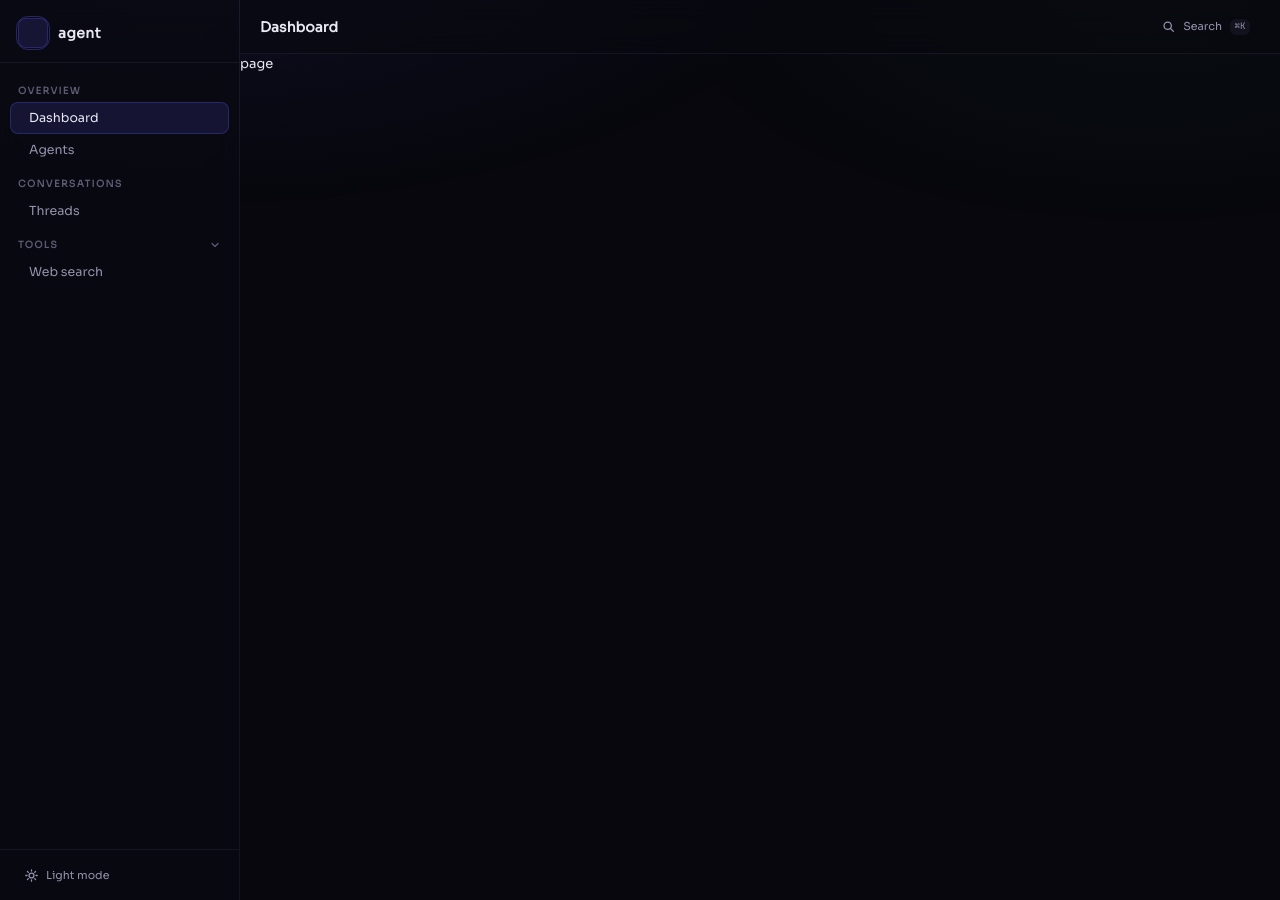
it: ⌘K navigation in AppShell › "threads" finds the Threads page and Enter navigates like a click on the nav item
The width and height of the screenshot is (1280, 900).
Press k
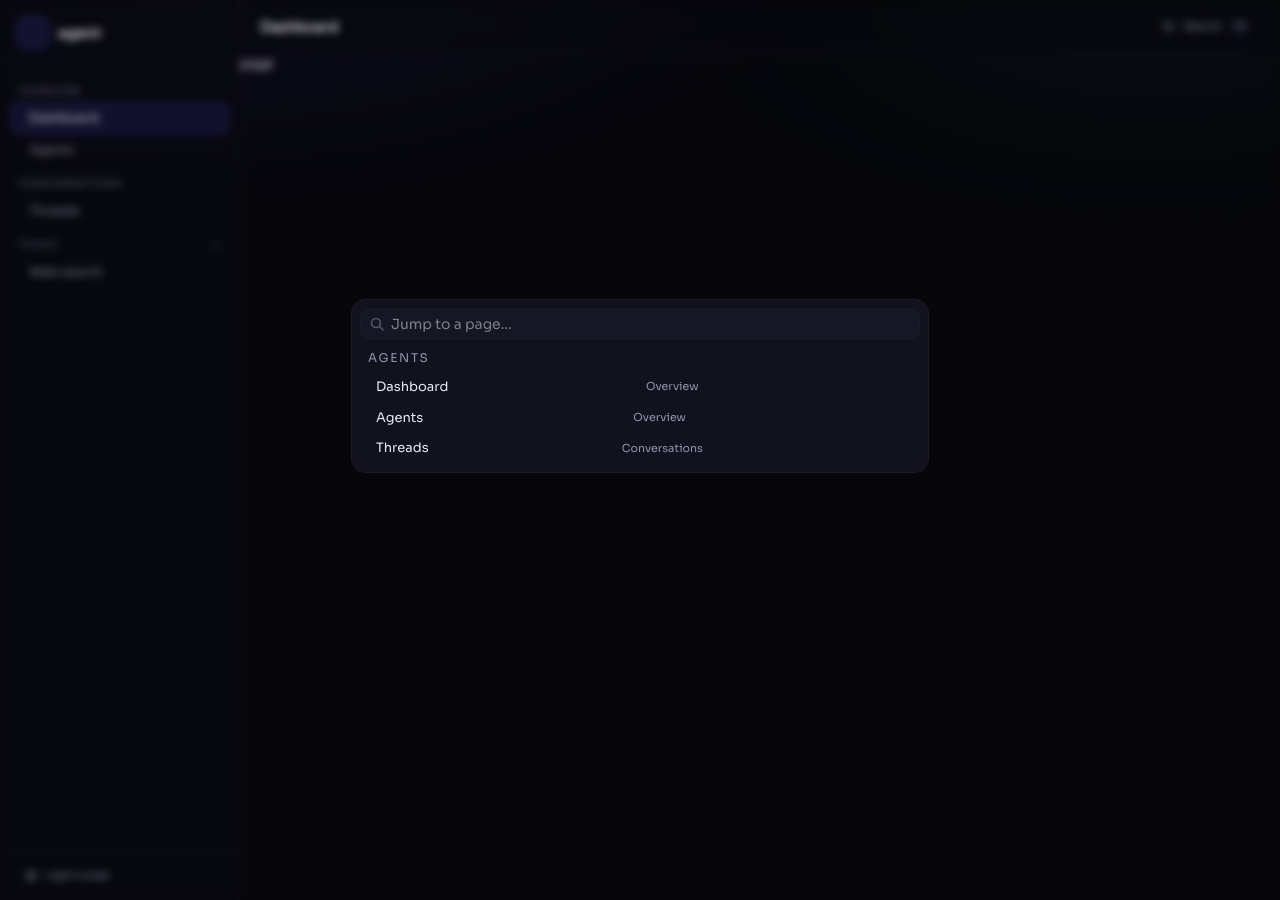
In the dropdown named "Search": [652, 324] box [385,314,919,334], type "THREADS"
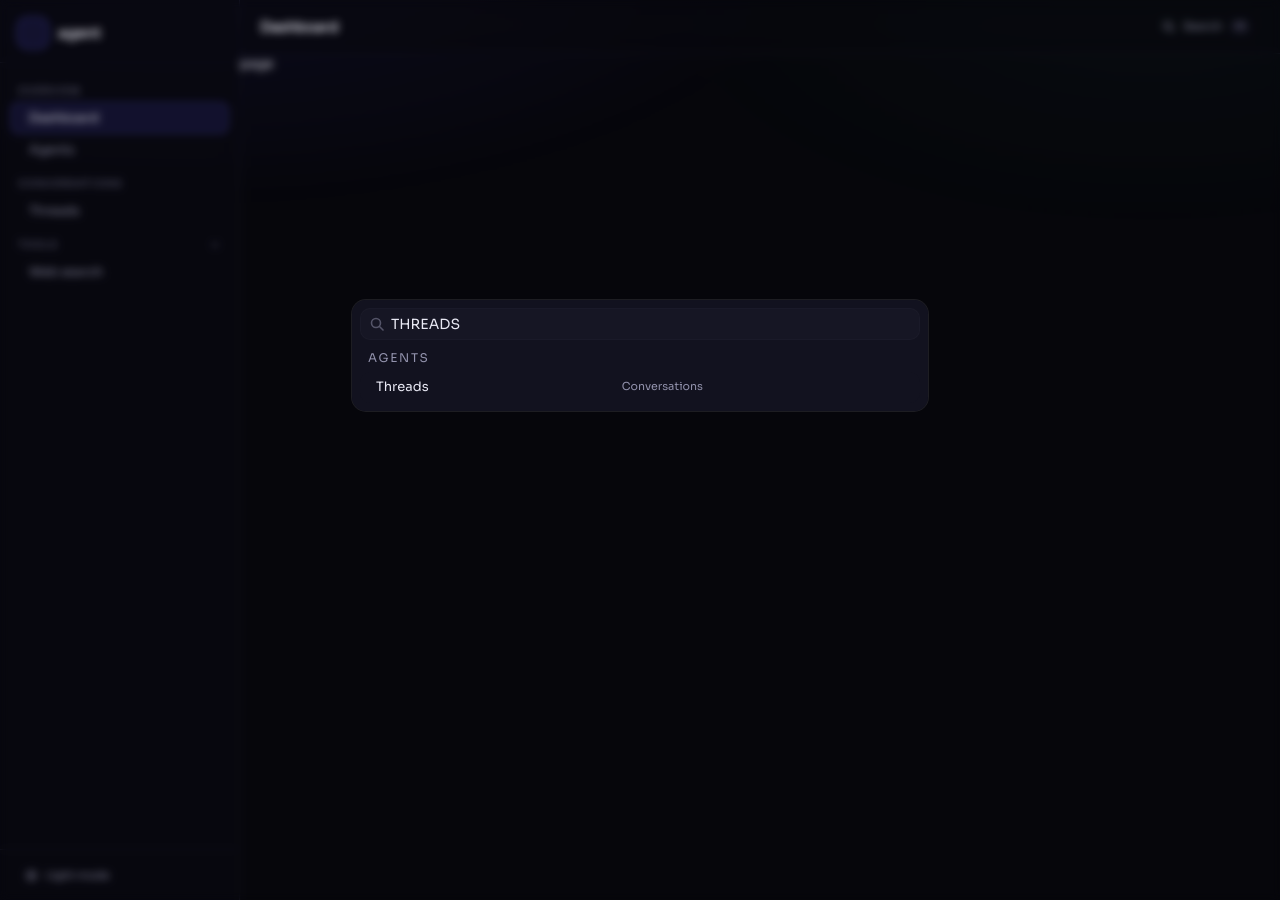
Press Enter in the dropdown named "Search", box [385,314,919,334]
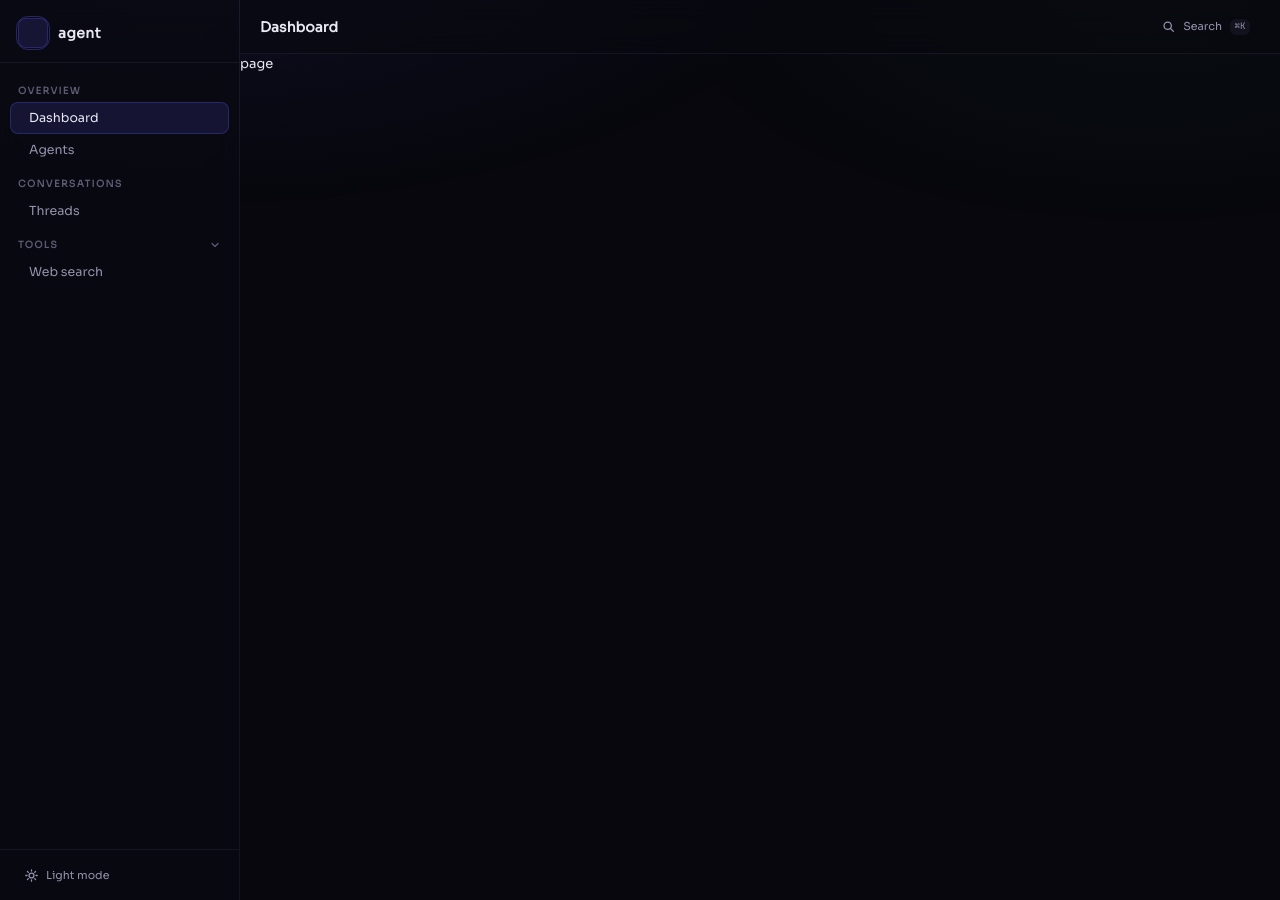
Now the dropdown is gone
